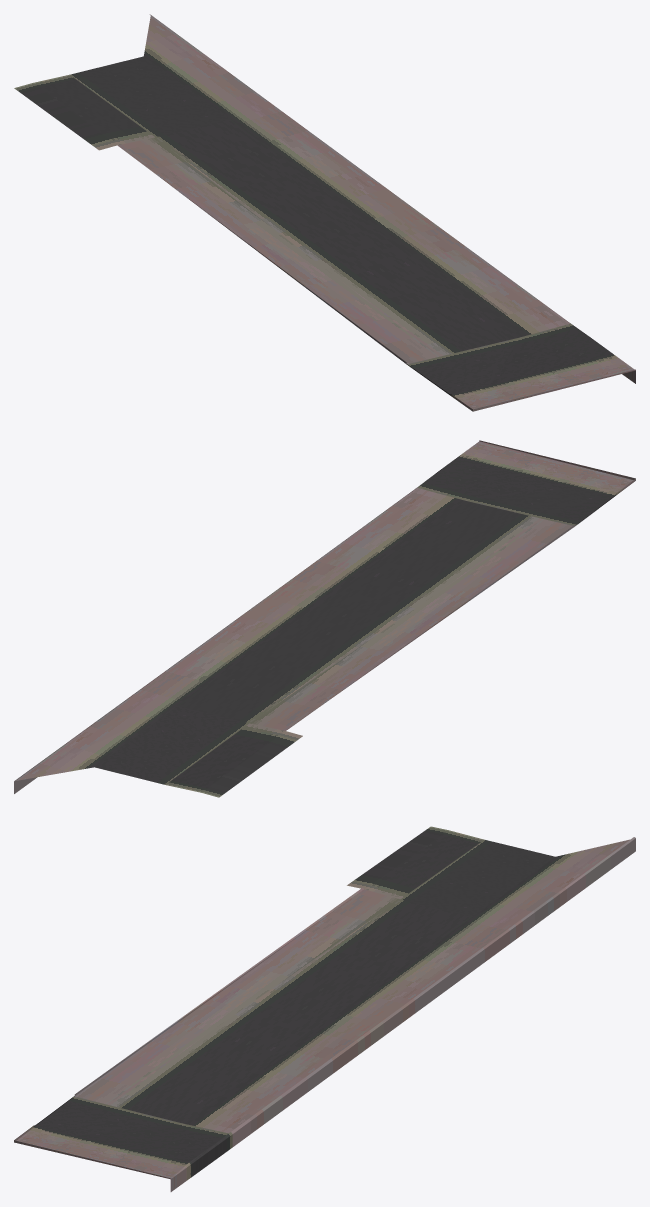
The model's file is lodlae2_roads22.obj.
The picture shows the model from 3 angles, top to bottom: view 1: azimuth 30°, elevation 25°; view 2: azimuth 150°, elevation 25°; view 3: azimuth 330°, elevation 25°; orthographic projection. The views are drawn at different scales.
Visible parts, largest first — view 1: LODLae2_roads22; view 2: LODLae2_roads22; view 3: LODLae2_roads22.
Part boxes in pixels (x1=…): LODLae2_roads22: x1=14, y1=14, x2=635, y2=411; LODLae2_roads22: x1=14, y1=440, x2=635, y2=797; LODLae2_roads22: x1=14, y1=826, x2=635, y2=1191.
Bounding box in the file's own units: 23.56 × 2.05 × 112.
Materials: 1 (1 with a texture image).
